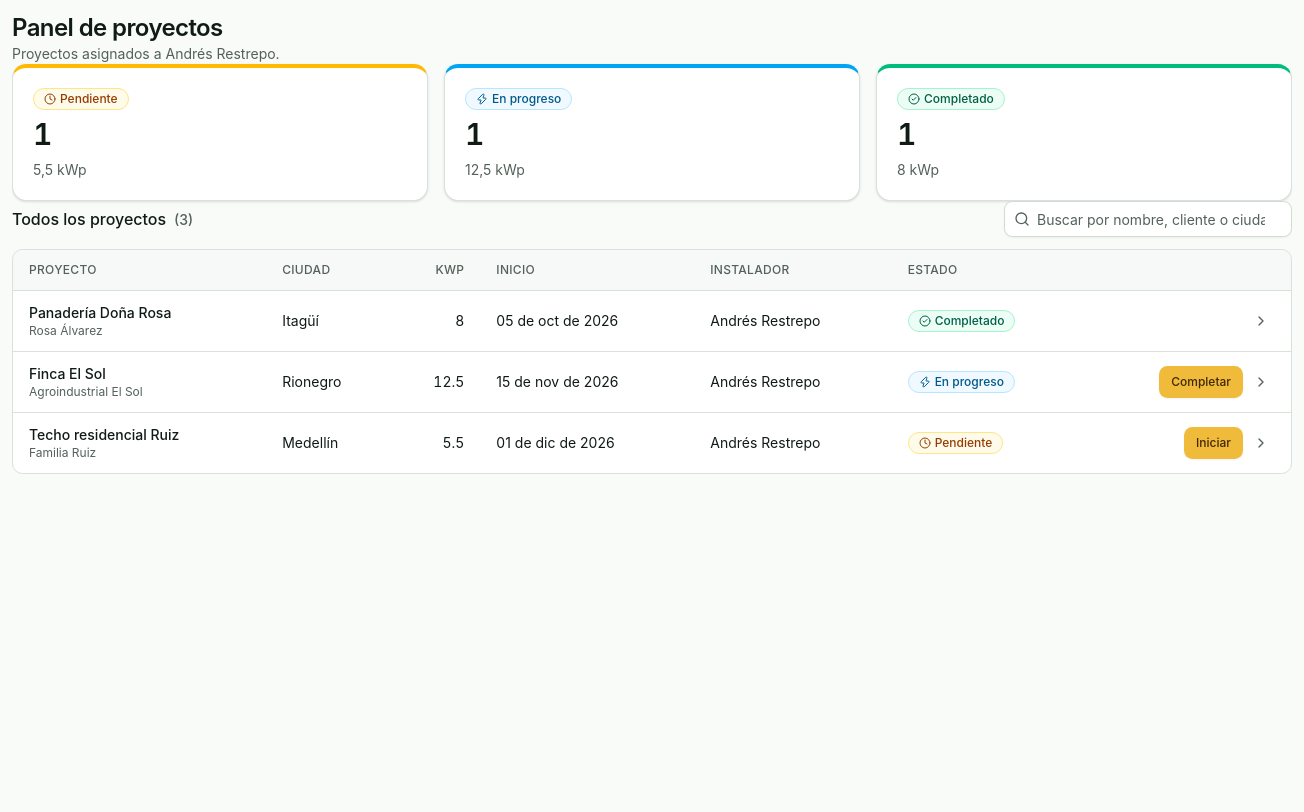
Test: Dashboard (UI-01, UI-02, UI-03, UI-05, UI-07) › si la base de datos rechaza el cambio, revierte y explica el motivo
The width and height of the screenshot is (1304, 812).
Click the button with aria-label "Iniciar Techo residencial Ruiz" at (1214, 443), box [1184,427,1243,459]
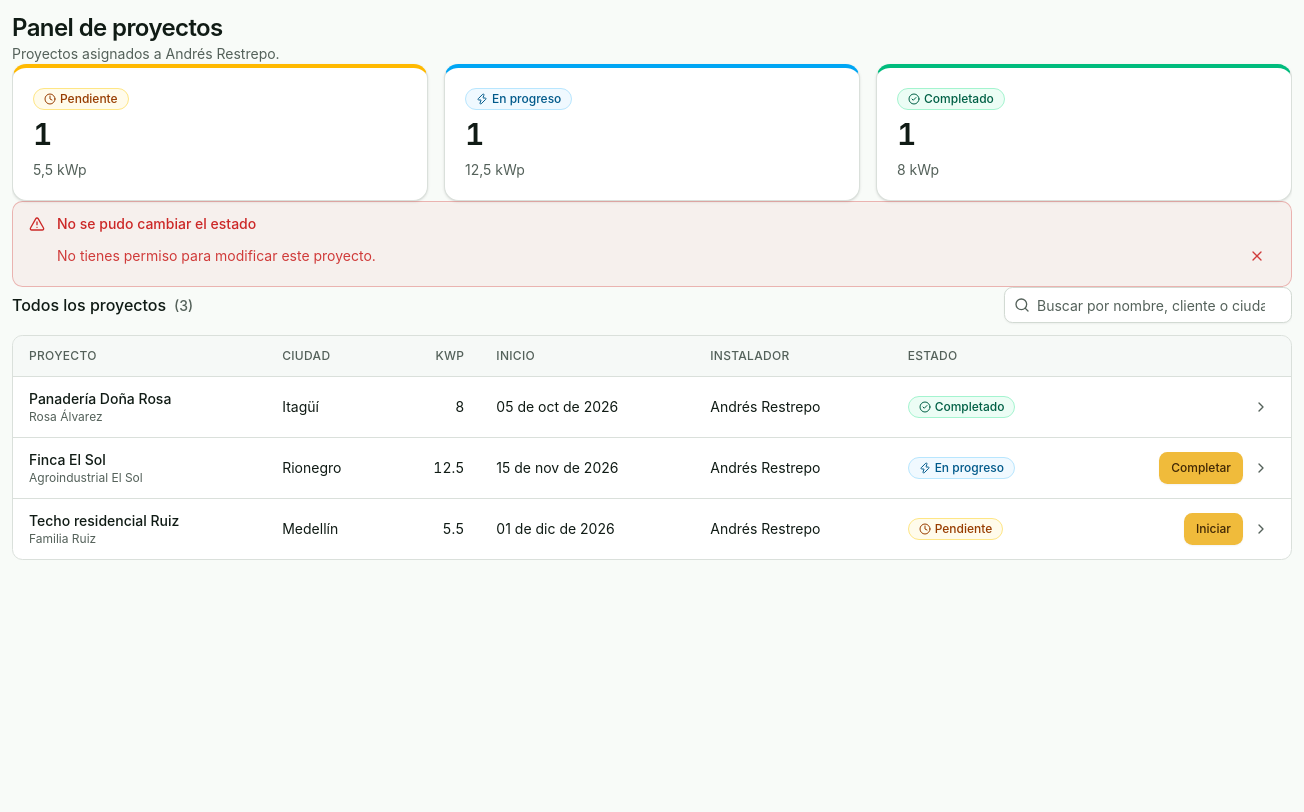
Expected: the text "Pendiente" in the row of "Techo residencial Ruiz" is shown, [935,521,992,536]
Now the text "No tienes permiso para modificar este proyecto." is shown, box [57,238,1275,274]
